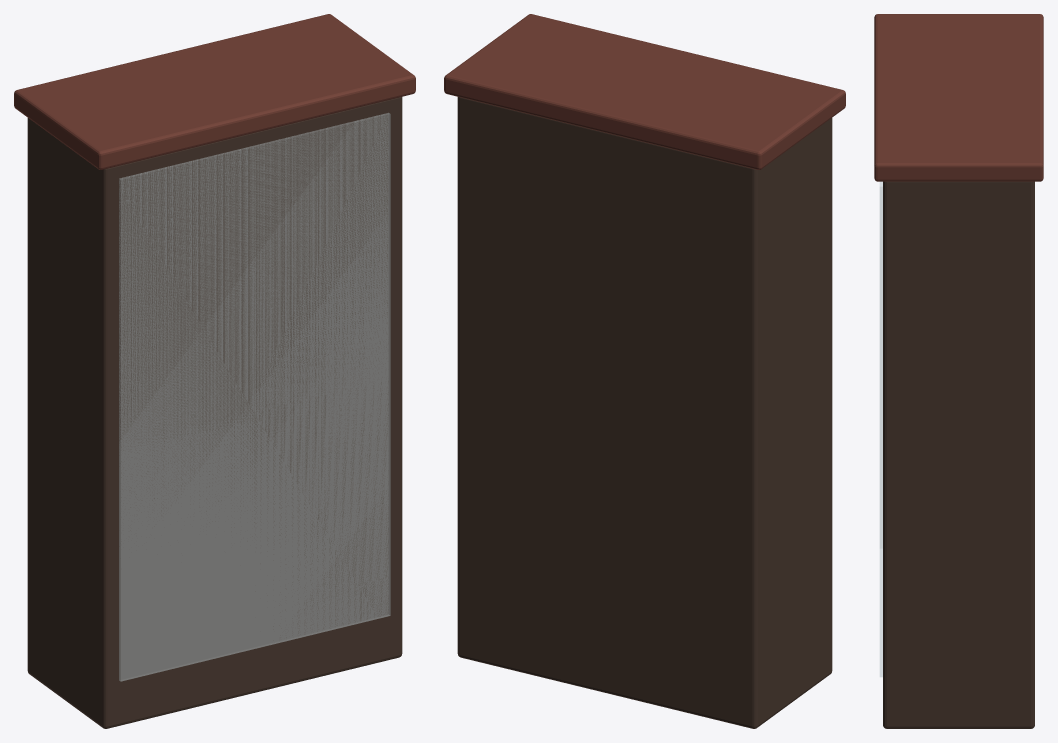
Rendered from trophy_case_skull_trophies.glb.
The picture shows the model from 3 angles, left to right: view 1: azimuth 30°, elevation 25°; view 2: azimuth 150°, elevation 25°; view 3: azimuth 270°, elevation 25°; orthographic projection. The views are drawn at different scales.
Visible parts, largest first — view 1: GD_trophy_case_skull_trophies__m0, GD_trophy_case_skull_trophies__m5, GD_trophy_case_skull_trophies__m1; view 2: GD_trophy_case_skull_trophies__m0, GD_trophy_case_skull_trophies__m1; view 3: GD_trophy_case_skull_trophies__m0, GD_trophy_case_skull_trophies__m1, GD_trophy_case_skull_trophies__m5.
Boxes of the visible parts, left/top/right/bottom form: GD_trophy_case_skull_trophies__m0: left=27, top=97, right=402, bottom=728; GD_trophy_case_skull_trophies__m5: left=119, top=113, right=390, bottom=681; GD_trophy_case_skull_trophies__m1: left=14, top=14, right=415, bottom=169; GD_trophy_case_skull_trophies__m0: left=457, top=97, right=832, bottom=728; GD_trophy_case_skull_trophies__m1: left=444, top=14, right=845, bottom=169; GD_trophy_case_skull_trophies__m0: left=883, top=181, right=1034, bottom=728; GD_trophy_case_skull_trophies__m1: left=874, top=14, right=1043, bottom=181; GD_trophy_case_skull_trophies__m5: left=879, top=181, right=882, bottom=677.
Bounding box in the file's own units: 1.06 × 1.86 × 0.5.
